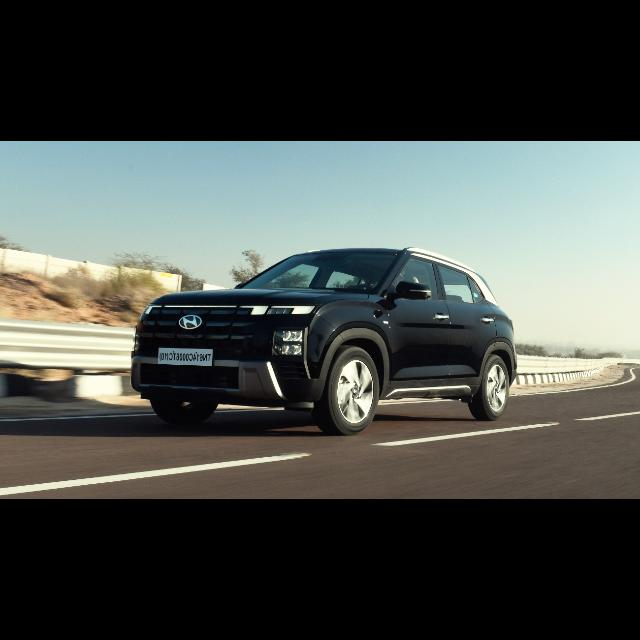vehicles: (128, 245, 516, 439)
